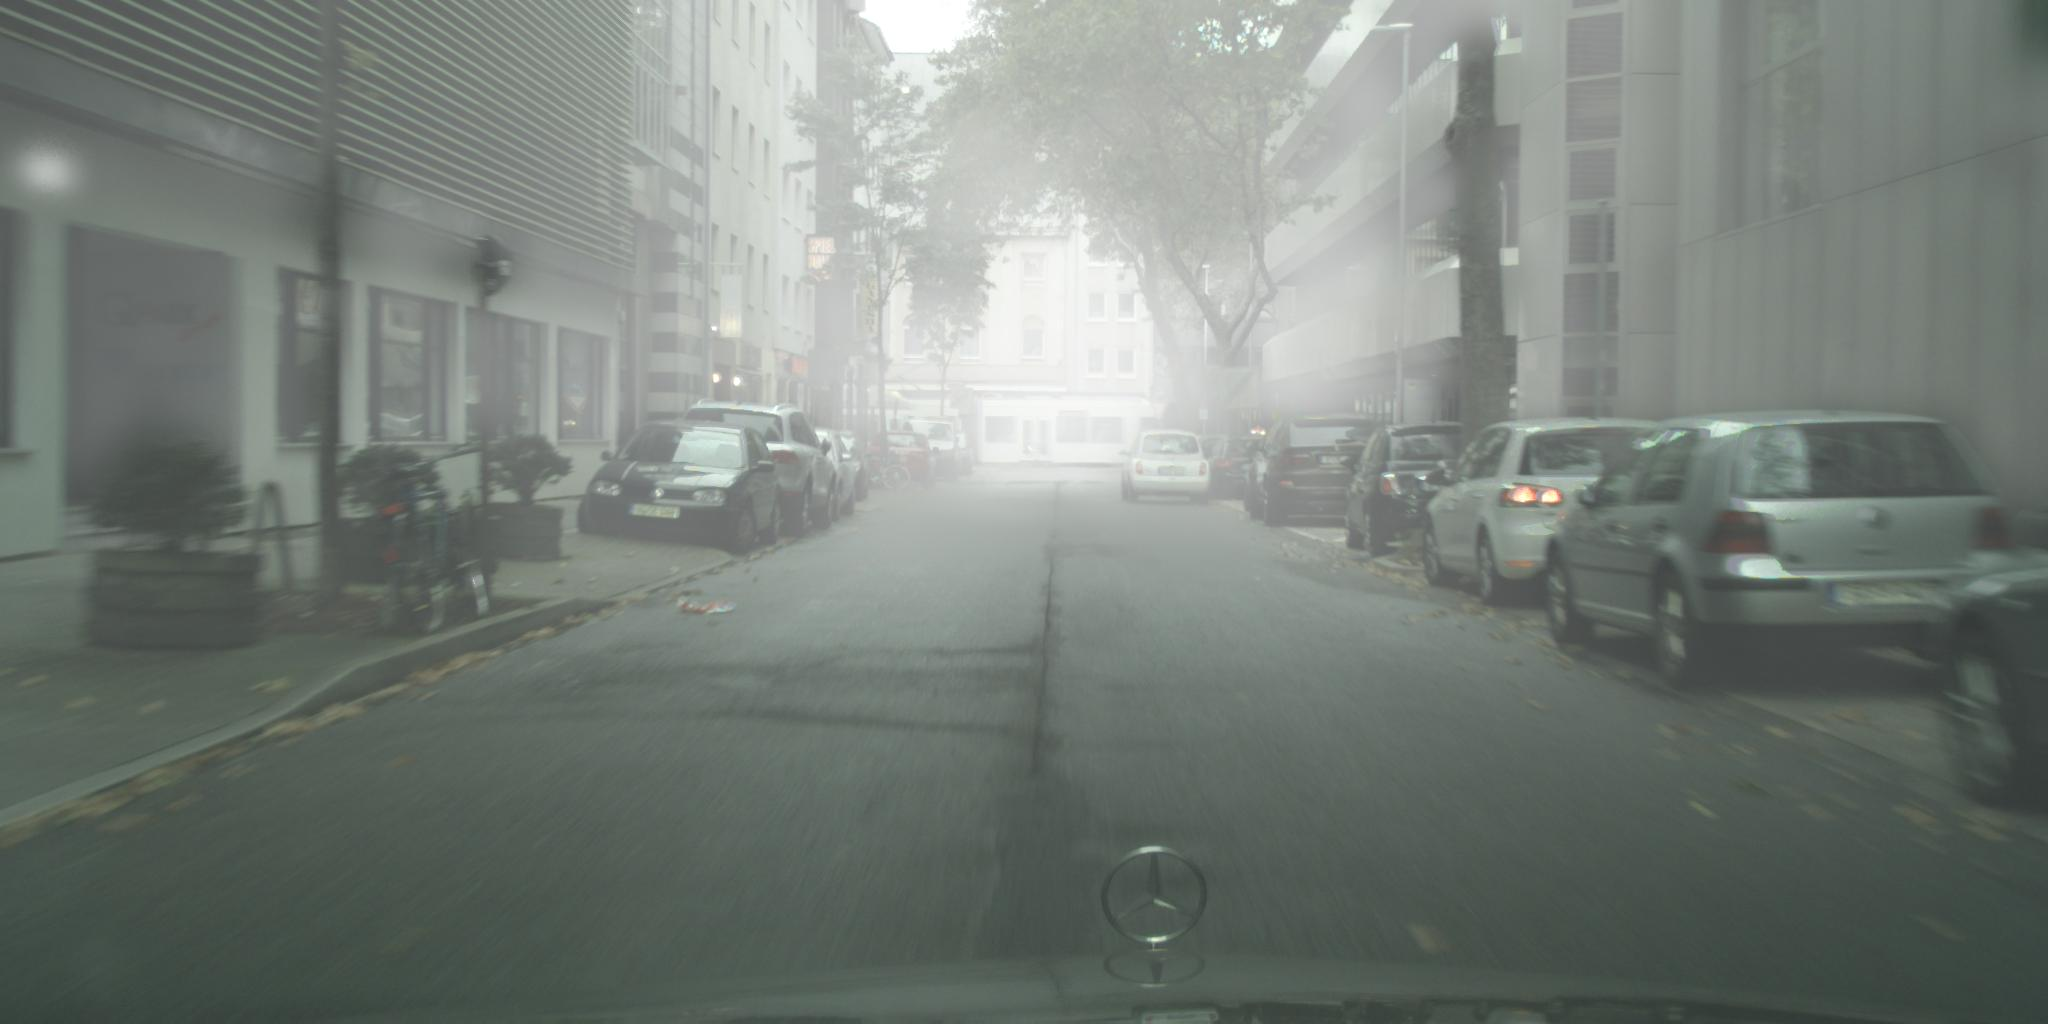bicycle: (350, 441, 492, 636), (856, 453, 912, 492)
car: (1546, 410, 2017, 694), (1424, 417, 1664, 609), (1925, 550, 2048, 818), (579, 421, 781, 556), (680, 398, 839, 539), (1339, 422, 1475, 559), (1246, 411, 1382, 528), (1118, 430, 1213, 508), (805, 427, 857, 524), (1202, 435, 1272, 502), (865, 431, 940, 491), (903, 415, 963, 485), (829, 432, 872, 504), (1192, 435, 1229, 477), (953, 431, 974, 479), (1242, 465, 1255, 515)
train: (875, 398, 1168, 470)
